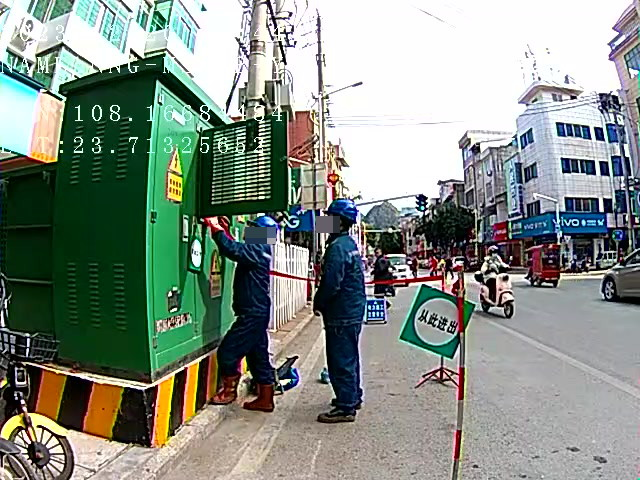downsuit: (215, 320, 274, 380), (323, 329, 364, 408)
halt: (325, 198, 359, 234), (246, 215, 279, 242)
inear: (328, 216, 347, 234)
intosign: (398, 279, 478, 360)
longglove: (205, 212, 234, 239)
person: (210, 214, 283, 411), (310, 197, 371, 420)
shoe: (241, 385, 281, 411), (209, 375, 244, 404)
upsuit: (312, 234, 368, 322), (222, 237, 276, 318)
worksign: (185, 234, 205, 274)
